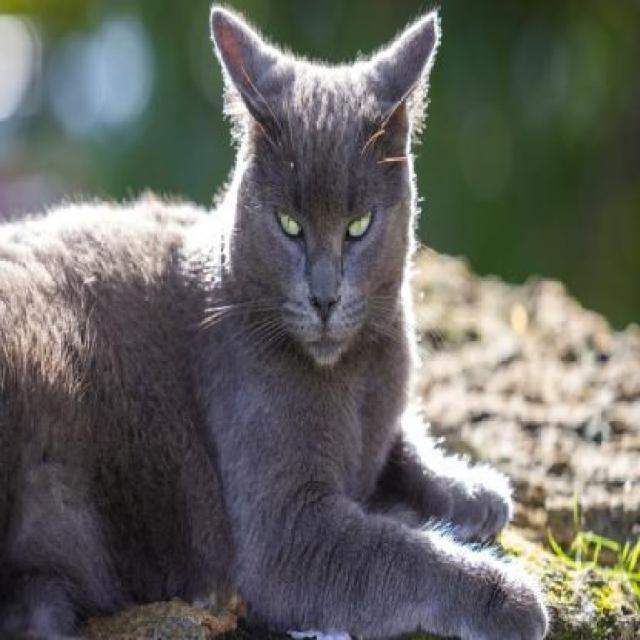cat: (0, 40, 549, 640)
